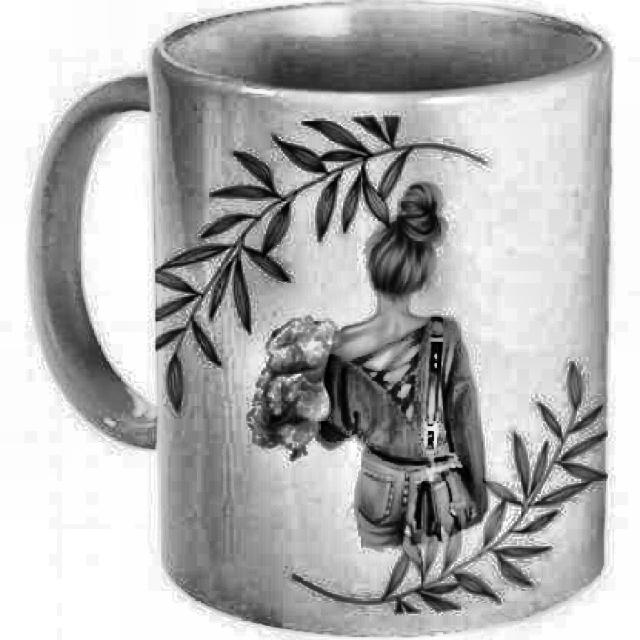Mug: (21, 1, 613, 638)
